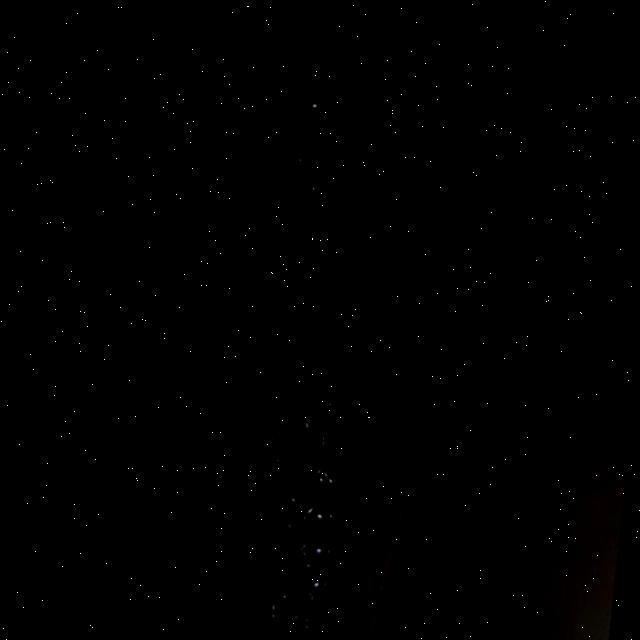bottle: (173, 0, 439, 640)
label: (213, 208, 389, 404)
